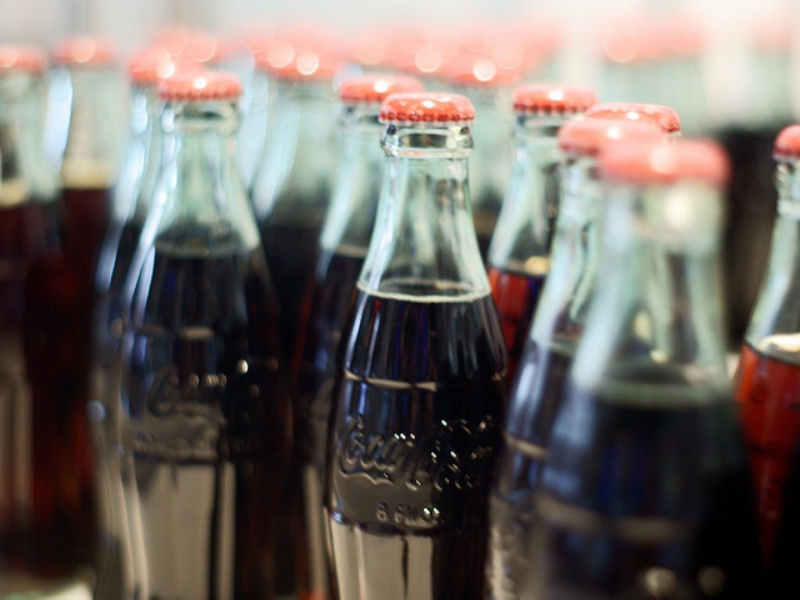Glass bottle: (518, 92, 763, 598), (305, 80, 530, 591), (97, 57, 301, 576)
